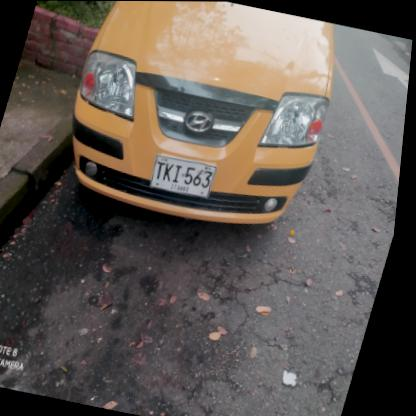placa: (144, 148, 227, 205)
